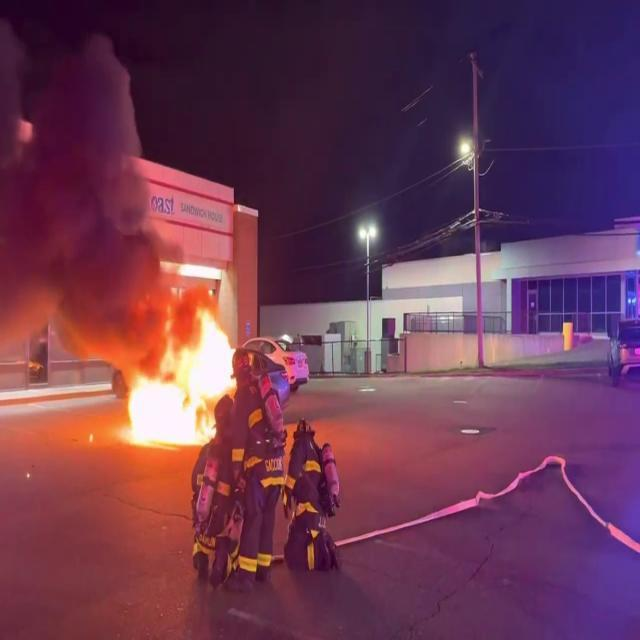Fire: (116, 292, 242, 449)
Smoke: (0, 0, 166, 349)
